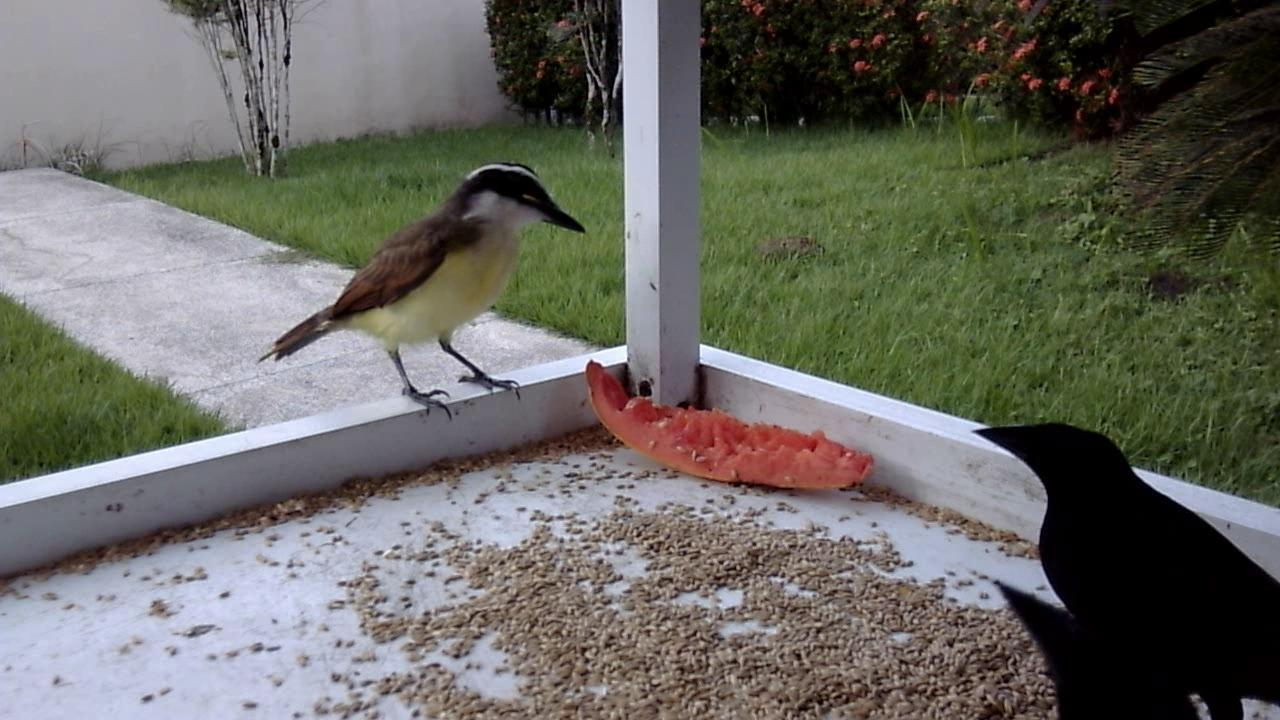bem_te_vi: (258, 160, 588, 432)
chupim: (973, 418, 1280, 720), (948, 564, 1202, 720)
